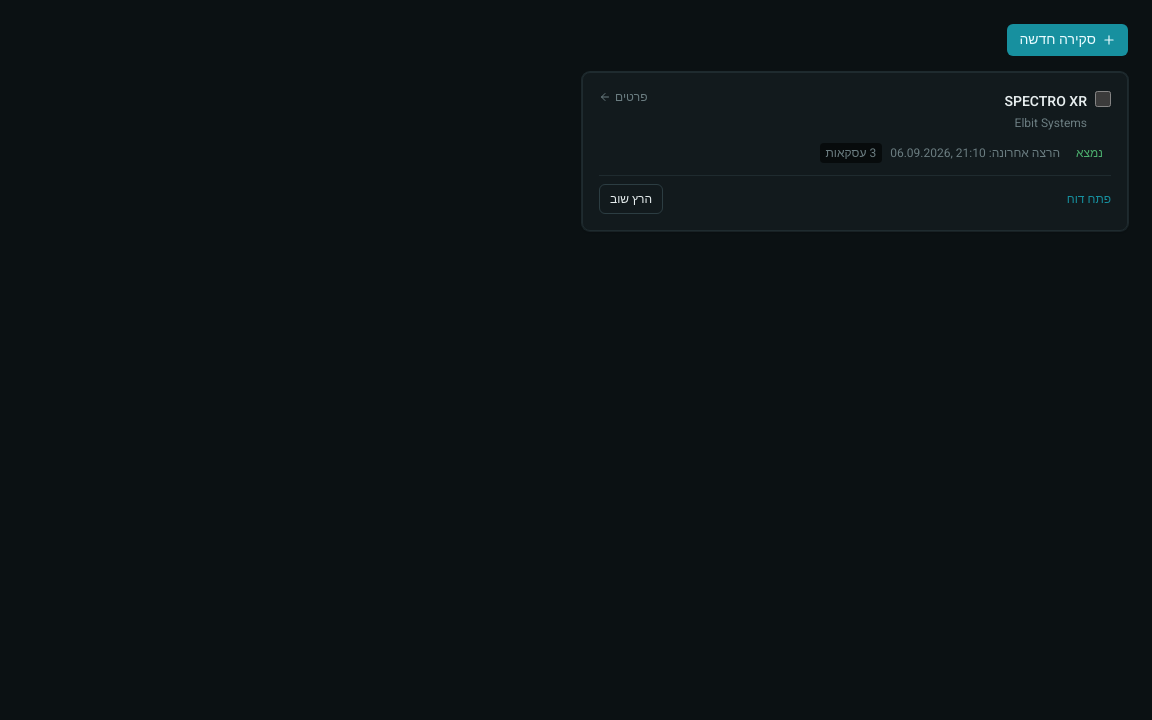
Test case: DossiersPage (PD-ui) › does not queue a rerun when the card's confirm dialog is cancelled
Click the button with test id "dossier-rerun-elbit-systems-spectro-xr".
click(631, 199)  # box [599,184,663,214]
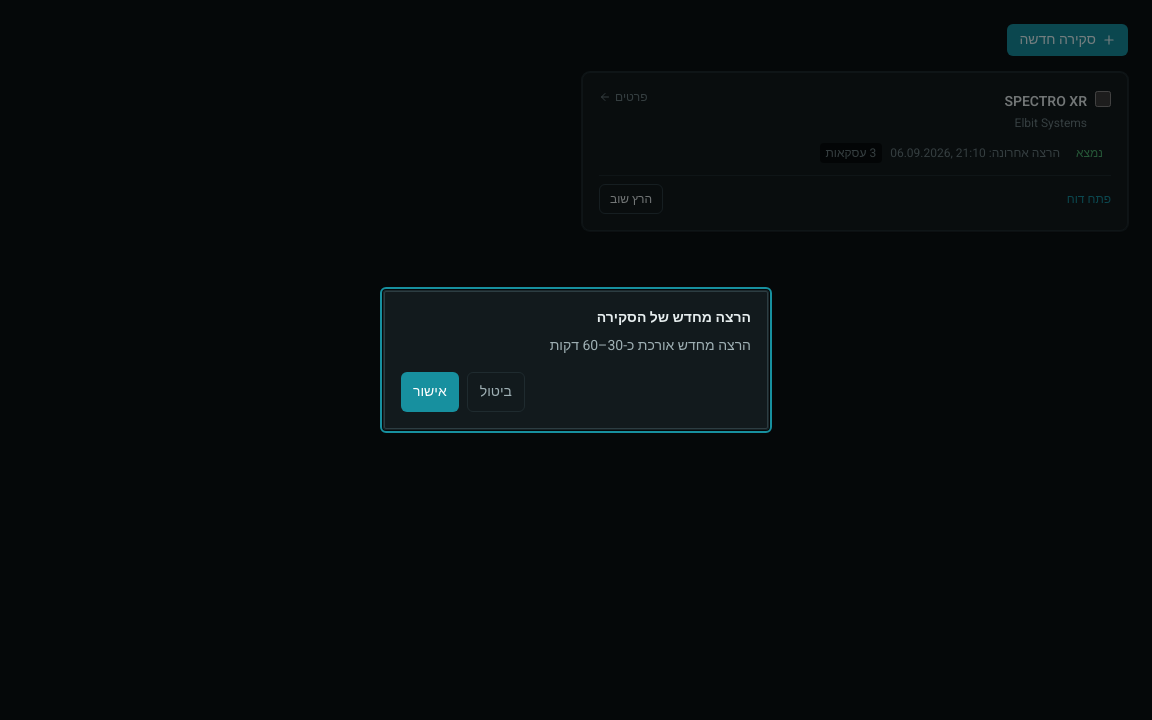
Click the button "ביטול".
click(496, 392)  # box [467,372,525,412]
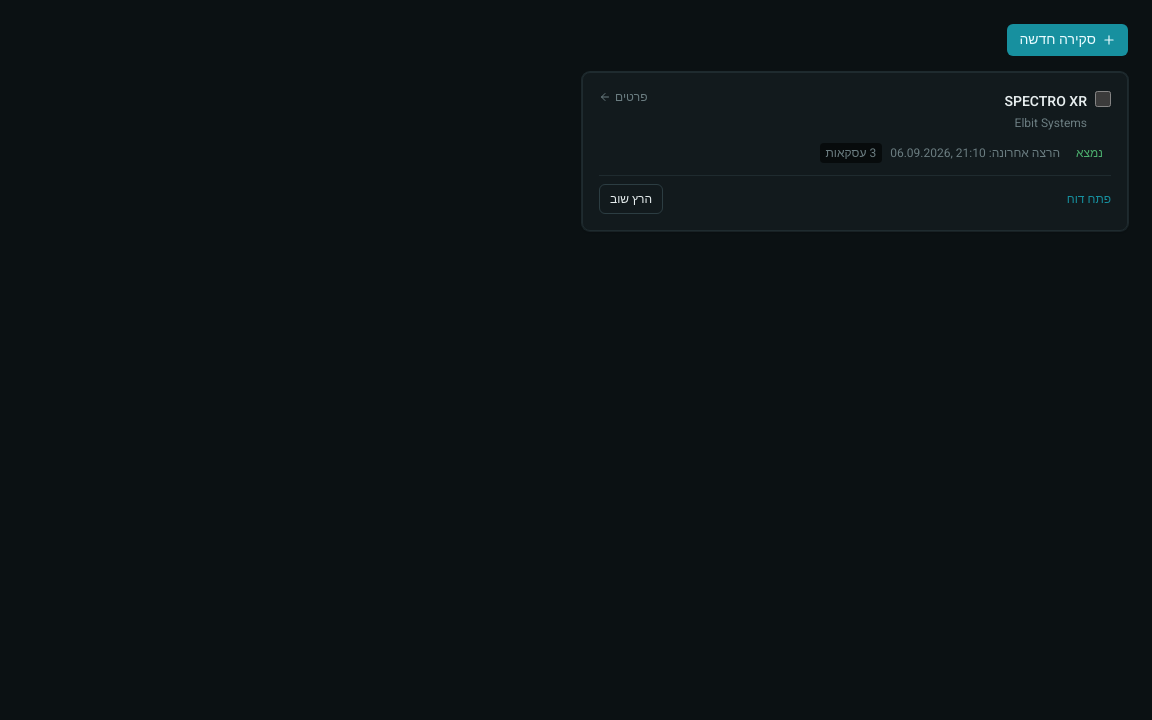
Expected: the dialog is gone
